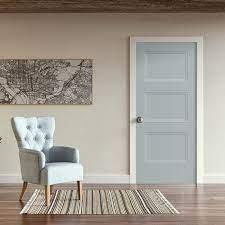chair: (11, 114, 84, 206)
door: (135, 42, 197, 187)
